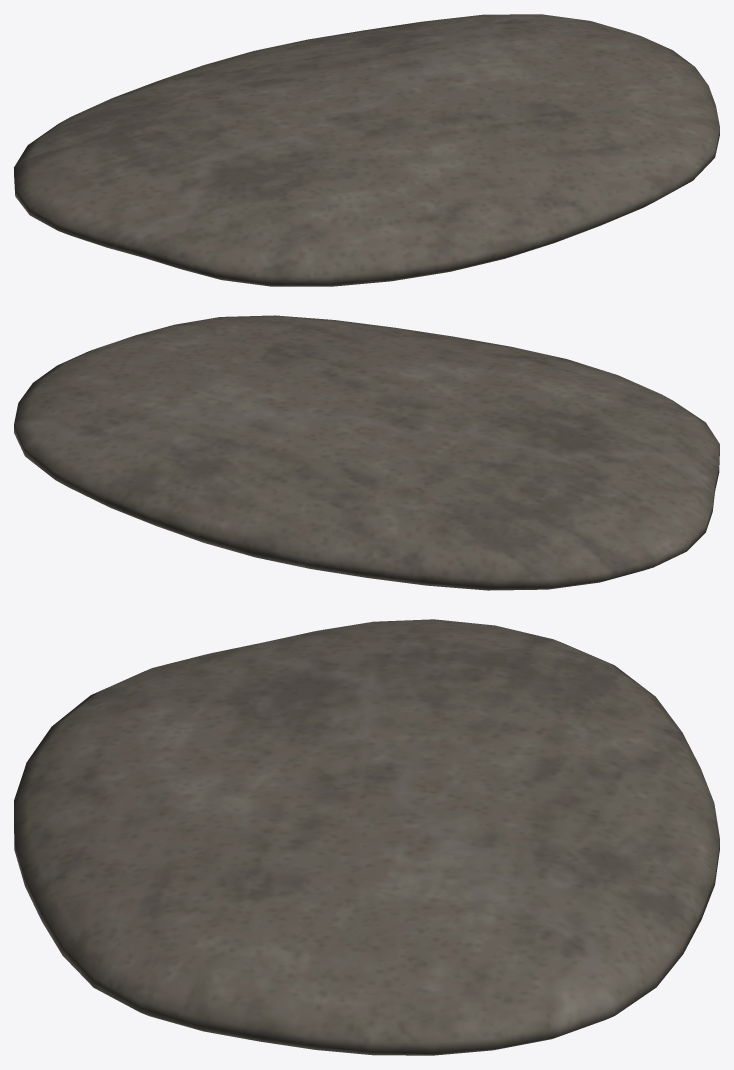
Rendered from standard_02.glb.
3 renders of one model, top to bottom at view 1: azimuth 30°, elevation 25°; view 2: azimuth 150°, elevation 25°; view 3: azimuth 270°, elevation 25°, orthographic. The views are drawn at different scales.
Parts seen in each view (by area): view 1: standard_02; view 2: standard_02; view 3: standard_02.
Boxes of the visible parts, x1,y1,x2,y2 form: standard_02: (14, 14, 719, 286); standard_02: (14, 315, 719, 590); standard_02: (14, 619, 719, 1055).
Size of the model in its own units: 0.0821 by 0.00925 by 0.058.
1 material, 1 textured.
